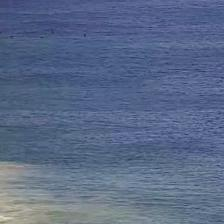surfer: (40, 35, 44, 39), (9, 34, 13, 38), (83, 34, 86, 38), (51, 31, 54, 34)
